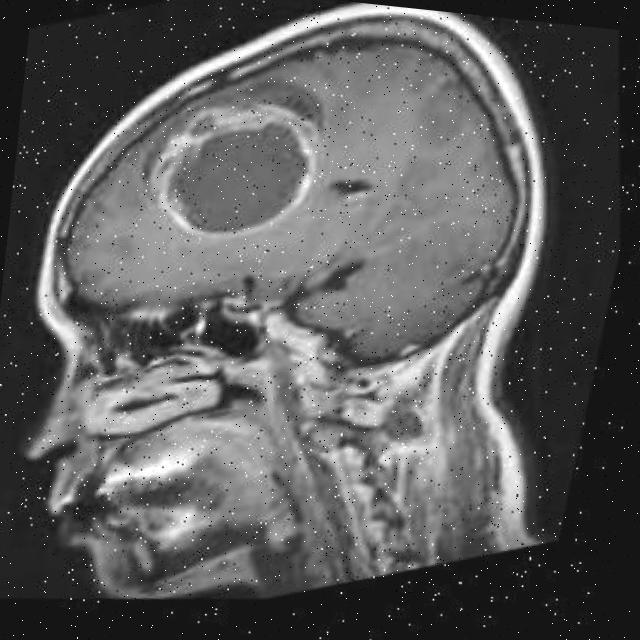EMCI: (114, 48, 362, 290)
